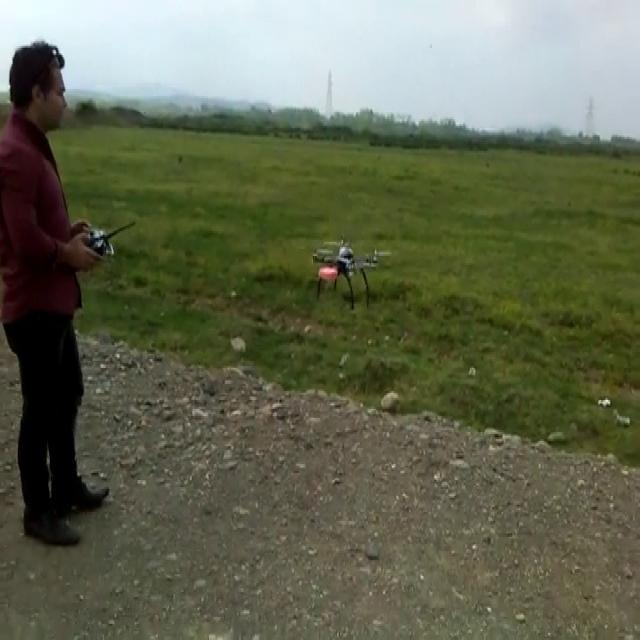drone: (310, 235, 394, 308)
